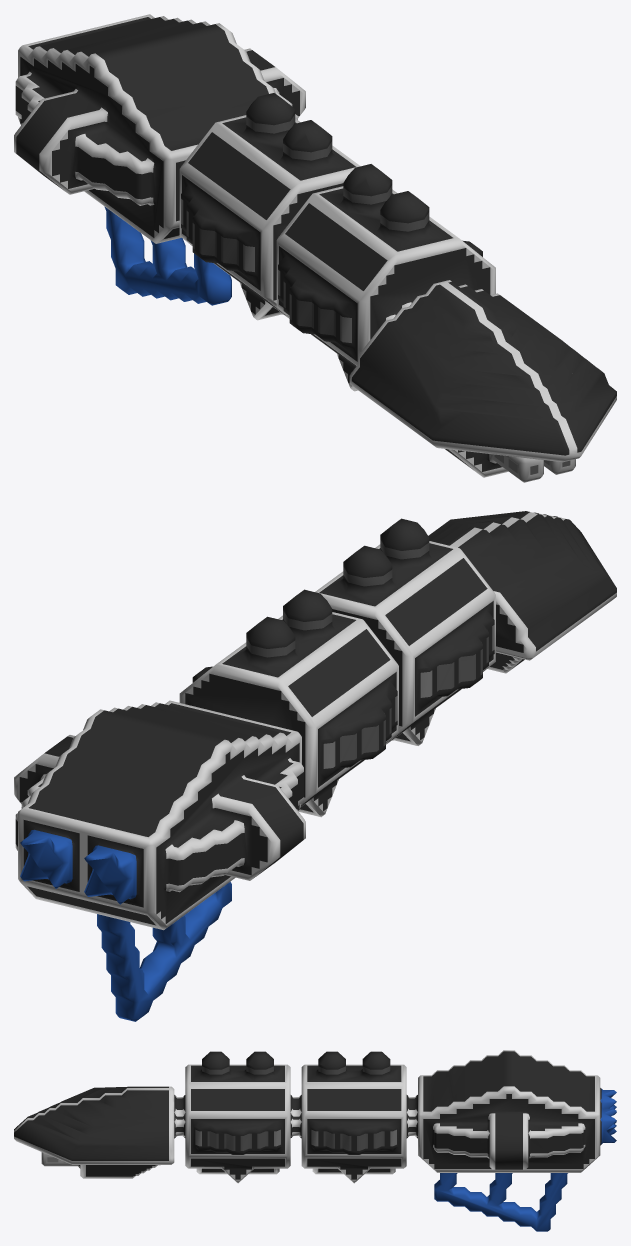
Rendered from diadochi-3-lotan-class.obj.
3 renders of one model, top to bottom at view 1: azimuth 30°, elevation 25°; view 2: azimuth 150°, elevation 25°; view 3: azimuth 270°, elevation 25°, orthographic. The views are drawn at different scales.
Bounding box in the file's own units: 33 × 35 × 109.
Materials: 1 (1 with a texture image).
